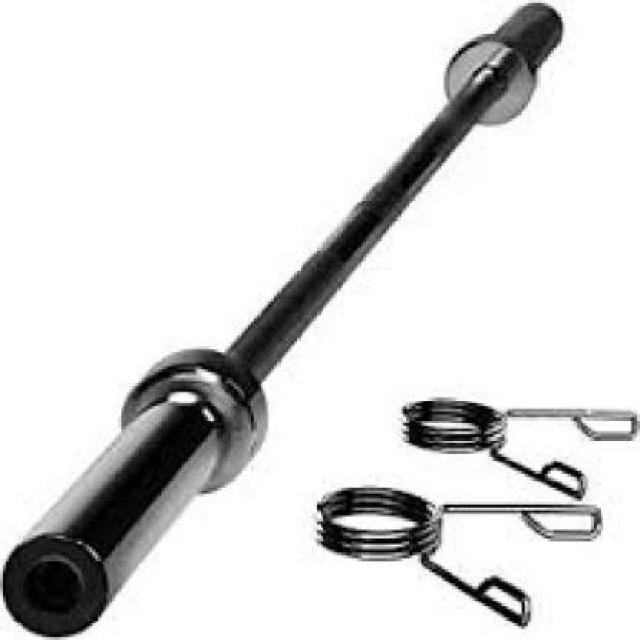barbell: (4, 346, 284, 639)
